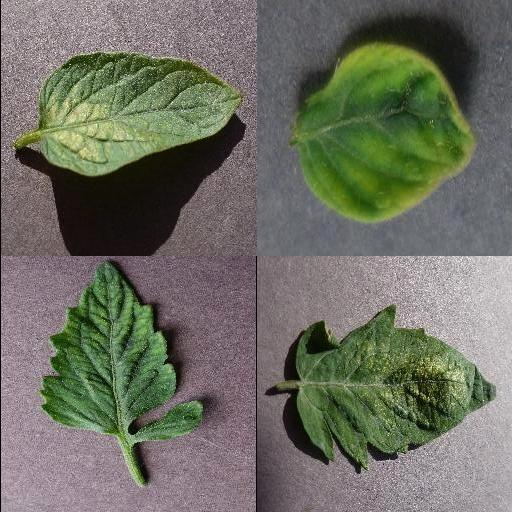Mosaic Virus: (41, 260, 177, 434)
Spider Mites: (294, 306, 498, 470), (37, 50, 243, 178)
Yellow Leaf Curl Virus: (290, 42, 476, 224)
